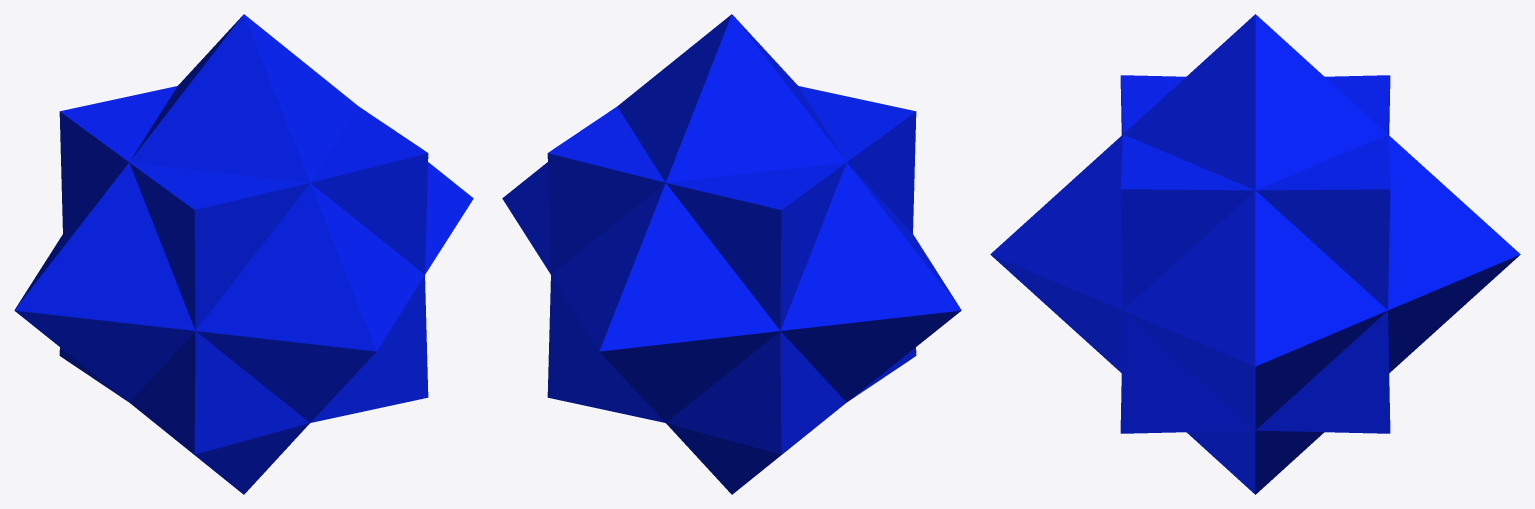
Rendered from marker.glb.
The picture shows the model from 3 angles, left to right: view 1: azimuth 30°, elevation 25°; view 2: azimuth 150°, elevation 25°; view 3: azimuth 270°, elevation 25°; orthographic projection.
Visible parts, largest first — view 1: Cube; view 2: Cube; view 3: Cube.
Boxes of the visible parts, x1,y1,x2,y2 form: Cube: (14, 14, 473, 494); Cube: (502, 14, 961, 494); Cube: (990, 14, 1520, 494).
Size of the model in its own units: 0.1996 by 0.1996 by 0.1996.
